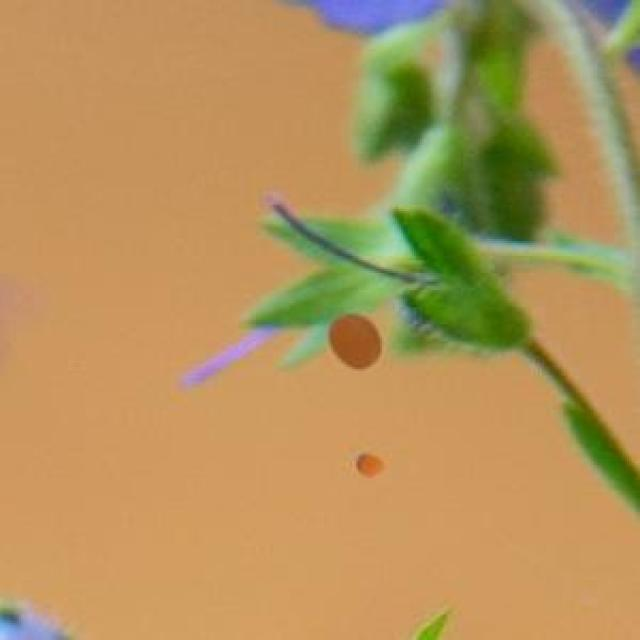Bactidol: (320, 297, 390, 377), (349, 437, 389, 484)
